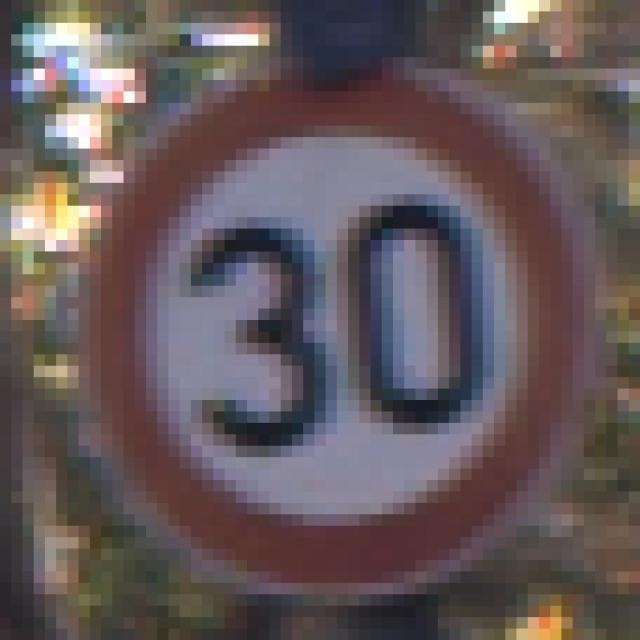Ograniczenie predkosci do 30: (82, 65, 586, 583)
